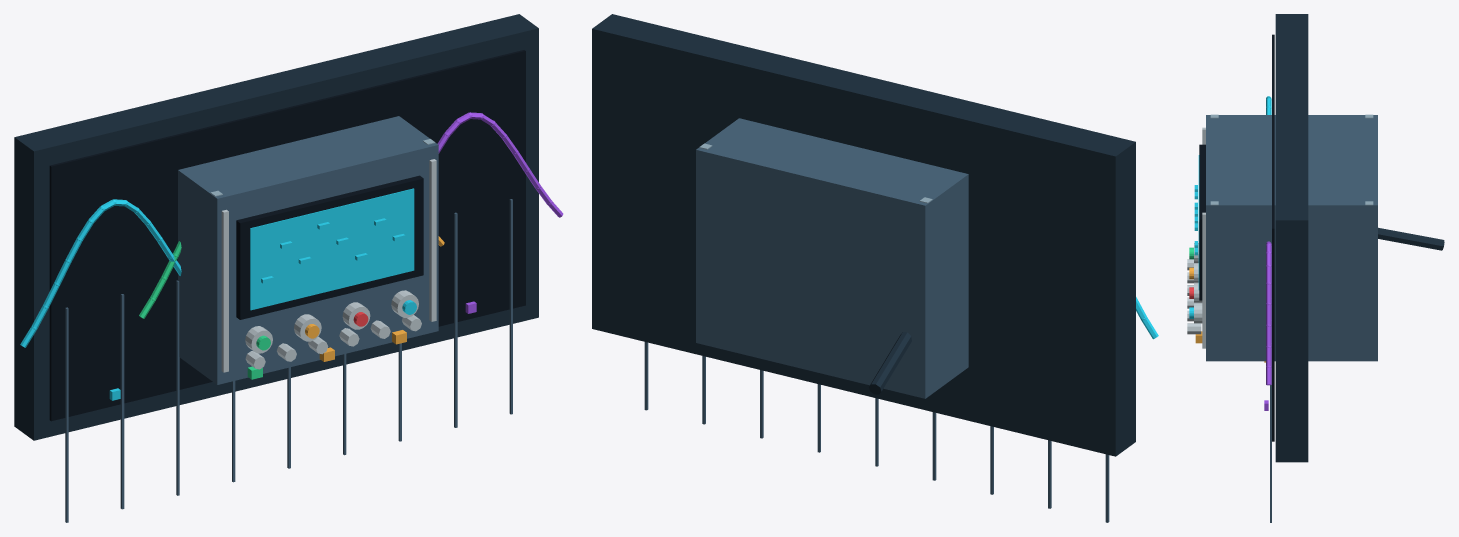
The model's file is 36_L80_DemultiplexerResonanceMonitor.fbx.
3 views of the same model, side by side, from view 1: azimuth 30°, elevation 25°; view 2: azimuth 150°, elevation 25°; view 3: azimuth 270°, elevation 25° (orthographic). The views are drawn at different scales.
Parts seen in each view (by area): view 1: DemultiplexerResonanceMonitor_Part_0036, DemultiplexerResonanceMonitor, DemultiplexerResonanceMonitor_Part_0035, DemultiplexerResonanceMonitor_Part_0166, DemultiplexerResonanceMonitor_Part_0173, DemultiplexerResonanceMonitor_Part_0165, DemultiplexerResonanceMonitor_Part_0172, DemultiplexerResonanceMonitor_Part_0167; view 2: DemultiplexerResonanceMonitor_Part_0035, DemultiplexerResonanceMonitor; view 3: DemultiplexerResonanceMonitor, DemultiplexerResonanceMonitor_Part_0035, DemultiplexerResonanceMonitor_Part_0036, DemultiplexerResonanceMonitor_Part_0173.
Boxes of the visible parts, box(x1,y1,x2,y2) form: DemultiplexerResonanceMonitor_Part_0036: box(49, 50, 525, 421); DemultiplexerResonanceMonitor: box(178, 116, 438, 384); DemultiplexerResonanceMonitor_Part_0035: box(14, 14, 538, 440); DemultiplexerResonanceMonitor_Part_0166: box(120, 294, 124, 509); DemultiplexerResonanceMonitor_Part_0173: box(509, 199, 512, 414); DemultiplexerResonanceMonitor_Part_0165: box(65, 307, 68, 522); DemultiplexerResonanceMonitor_Part_0172: box(454, 212, 457, 427); DemultiplexerResonanceMonitor_Part_0167: box(176, 280, 179, 495); DemultiplexerResonanceMonitor_Part_0035: box(592, 14, 1135, 456); DemultiplexerResonanceMonitor: box(696, 118, 968, 398); DemultiplexerResonanceMonitor: box(1187, 114, 1444, 361); DemultiplexerResonanceMonitor_Part_0035: box(1275, 14, 1308, 462); DemultiplexerResonanceMonitor_Part_0036: box(1272, 34, 1274, 441); DemultiplexerResonanceMonitor_Part_0173: box(1270, 343, 1271, 522).
Bounding box in the file's own units: 225 × 150 × 111.
